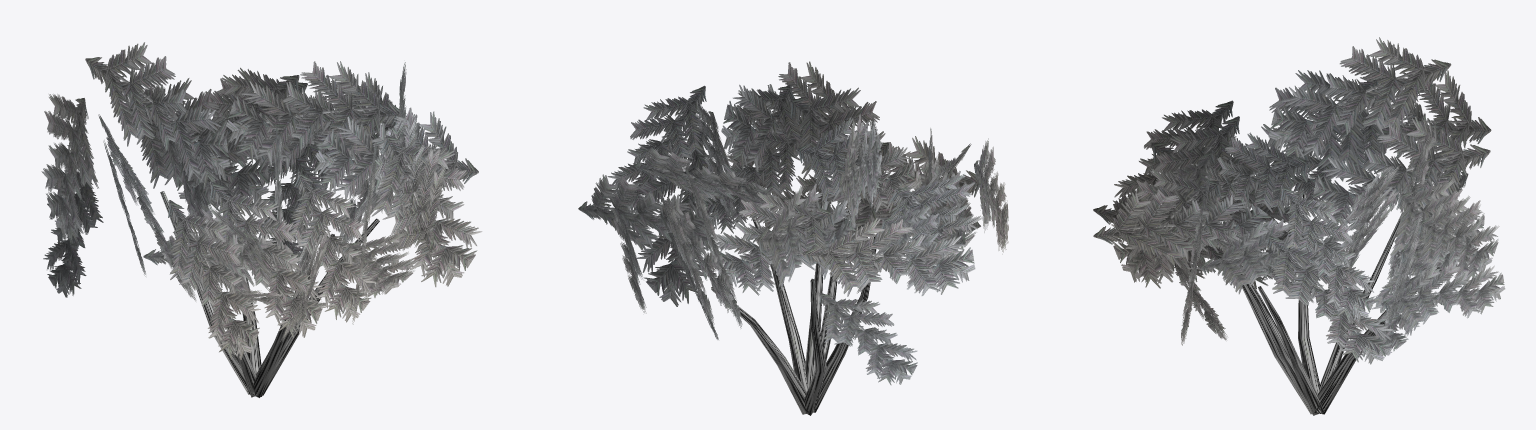
Rendered from shrub_needle_l0.gltf.
3 views of the same model, side by side, from view 1: azimuth 30°, elevation 25°; view 2: azimuth 150°, elevation 25°; view 3: azimuth 270°, elevation 25° (orthographic). The views are drawn at different scales.
Visible parts, largest first — view 1: shrub_needle_l0; view 2: shrub_needle_l0; view 3: shrub_needle_l0.
Boxes of the visible parts, x1=… form: shrub_needle_l0: x1=41, y1=42, x2=482, y2=397; shrub_needle_l0: x1=578, y1=61, x2=1008, y2=415; shrub_needle_l0: x1=1093, y1=37, x2=1505, y2=415.
Bounding box in the file's own units: 1.68 × 1.43 × 1.61.
Materials: 2 (2 with a texture image).
